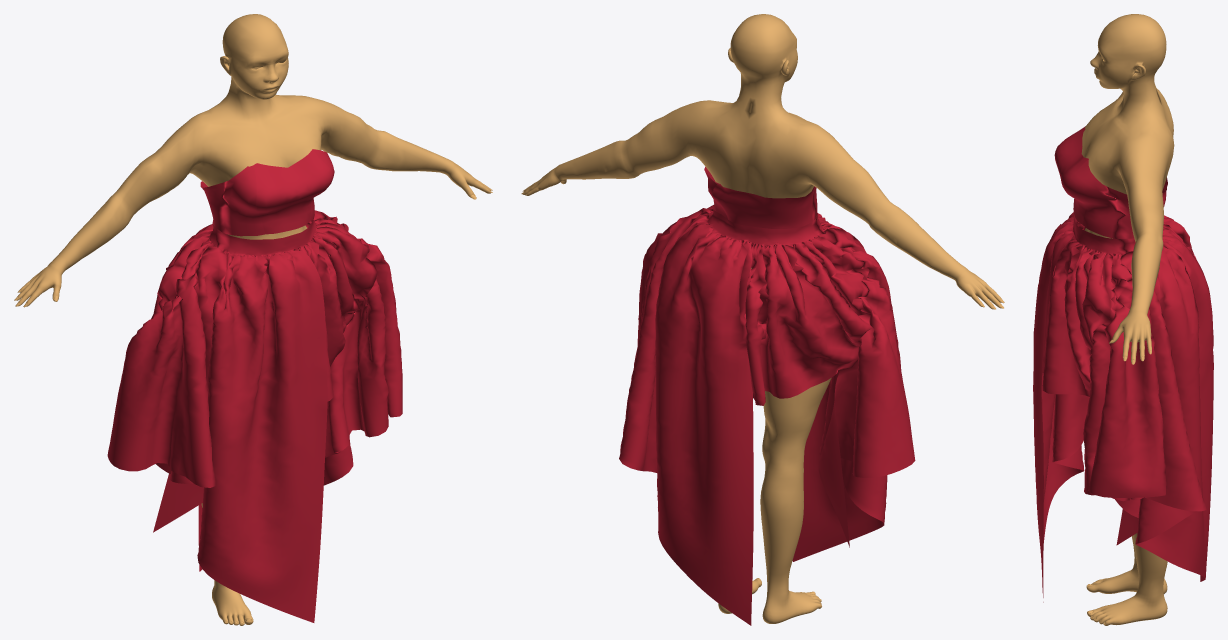
File: dress2.glb
3 renders of one model, left to right at view 1: azimuth 30°, elevation 25°; view 2: azimuth 150°, elevation 25°; view 3: azimuth 270°, elevation 25°, orthographic.
Parts seen in each view (by area): view 1: Project 1, Body; view 2: Project 1, Body; view 3: Project 1, Body.
Part boxes in pixels (x1=…): Project 1: x1=107, y1=149, x2=402, y2=622; Body: x1=16, y1=14, x2=492, y2=625; Project 1: x1=619, y1=167, x2=915, y2=625; Body: x1=523, y1=14, x2=1001, y2=623; Project 1: x1=1033, y1=126, x2=1213, y2=602; Body: x1=1081, y1=14, x2=1174, y2=625.
Size of the model in its own units: 1.58 by 1.85 by 0.5151.
